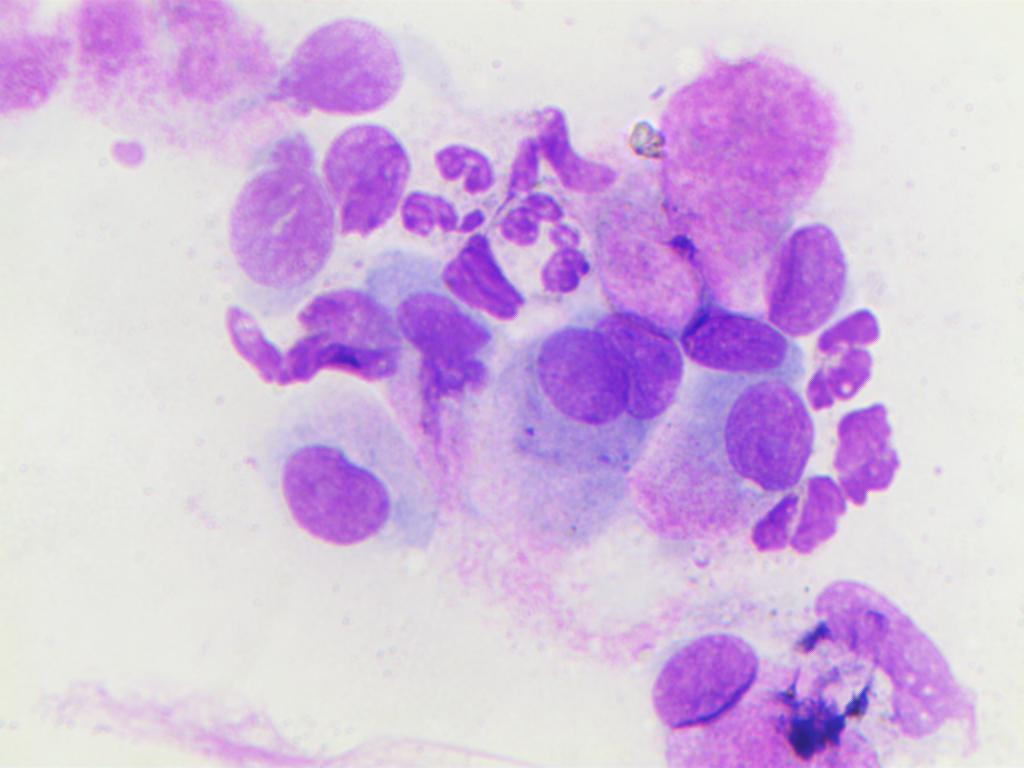artifact: (217, 279, 405, 396), (786, 609, 896, 758), (390, 283, 498, 430), (274, 20, 412, 109)
epithelial: (249, 404, 400, 558), (207, 145, 333, 294), (306, 122, 414, 245), (530, 327, 627, 452), (711, 381, 816, 493), (591, 305, 690, 423), (758, 222, 846, 324)
erythrocyte: (620, 113, 670, 163)
goblet_cell: (627, 630, 819, 767), (627, 297, 797, 386)
neutrophil: (747, 395, 919, 571), (392, 136, 501, 251), (495, 184, 596, 297), (799, 299, 888, 417)
